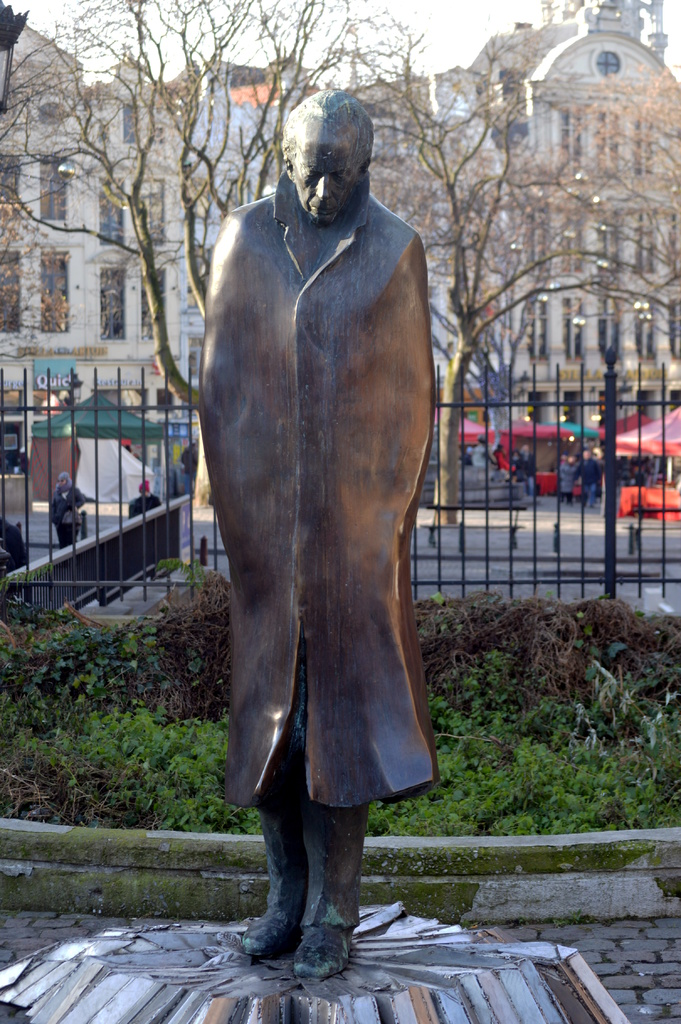Footwear: (239, 819, 366, 977), (294, 924, 350, 977)
